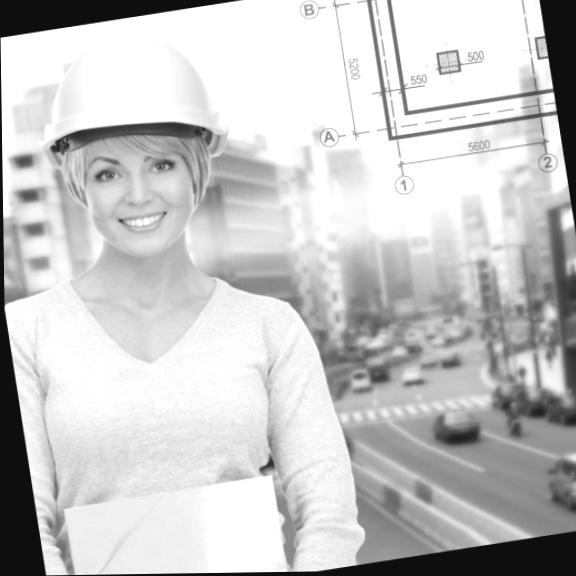no_safety_vest: (4, 245, 374, 576)
